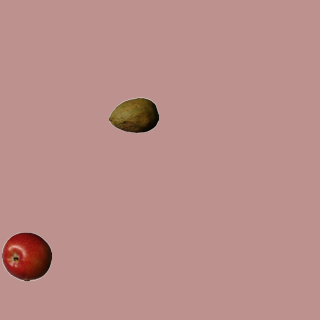Apple Braeburn: (1, 231, 51, 281)
Papaya: (108, 90, 158, 140)
